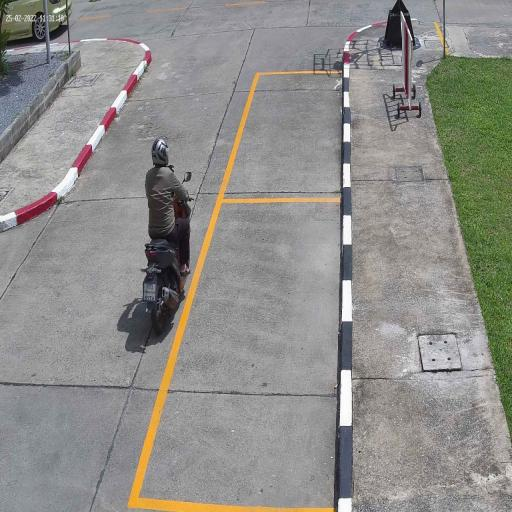motorcycle: (142, 240, 182, 336)
